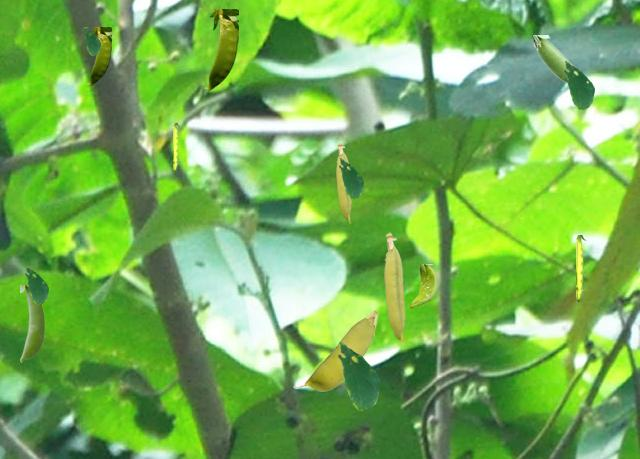pea: (293, 310, 377, 390), (203, 9, 237, 89), (384, 232, 404, 344), (533, 35, 576, 83), (20, 285, 43, 361), (86, 27, 110, 84), (408, 264, 436, 307), (336, 142, 350, 222), (576, 235, 585, 301), (173, 123, 179, 171)
